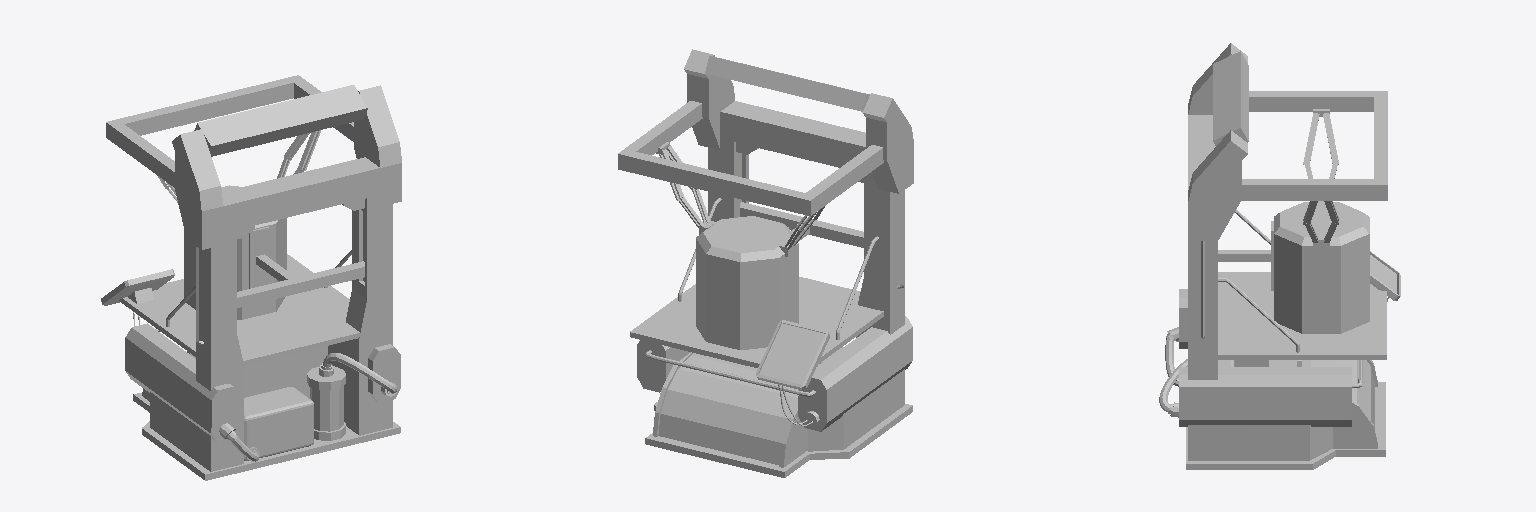
Rendered from fabricator.obj.
The picture shows the model from 3 angles: view 1: azimuth 30°, elevation 25°; view 2: azimuth 150°, elevation 25°; view 3: azimuth 270°, elevation 25°; orthographic projection.
Visible parts, largest first — view 1: 3DPrinter.002_Cube.018; view 2: 3DPrinter.002_Cube.018; view 3: 3DPrinter.002_Cube.018.
Part boxes in pixels (x1,y1,x2,y2): 3DPrinter.002_Cube.018: (101, 75, 401, 480); 3DPrinter.002_Cube.018: (618, 49, 913, 477); 3DPrinter.002_Cube.018: (1159, 43, 1400, 469).
Size of the model in its own units: 1.92 by 3.05 by 2.01.